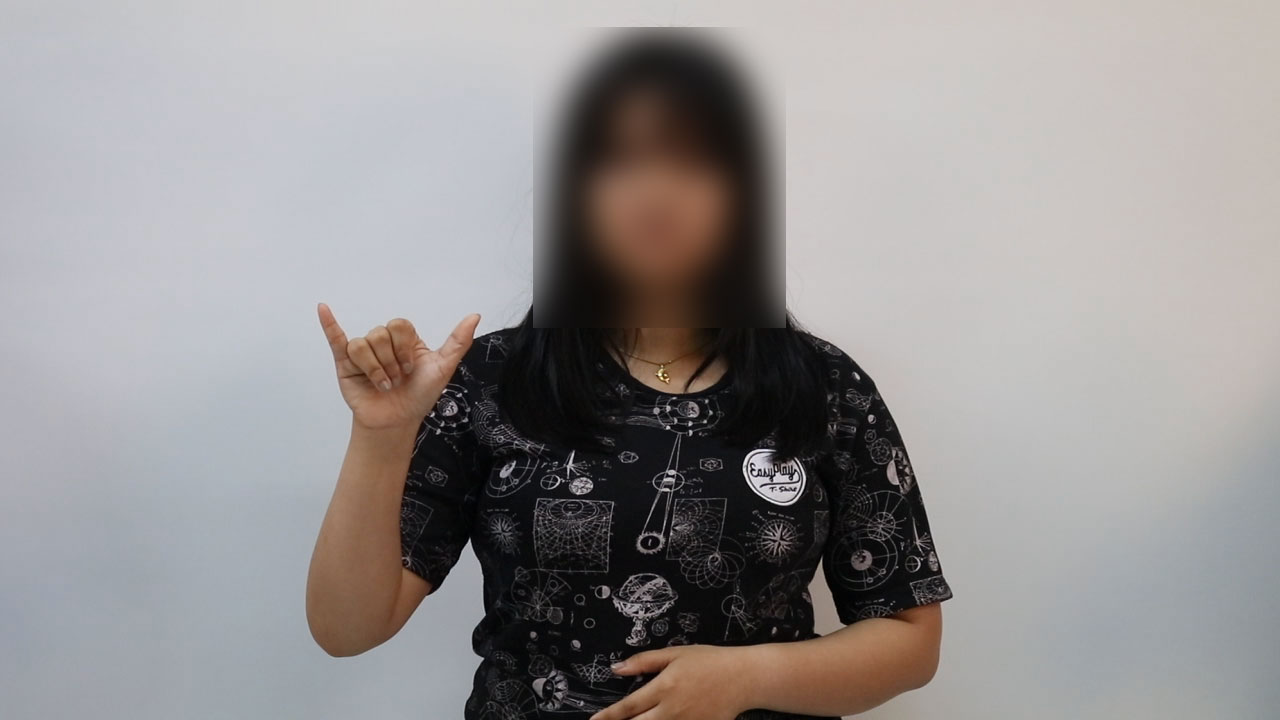yor: (308, 296, 492, 442)
